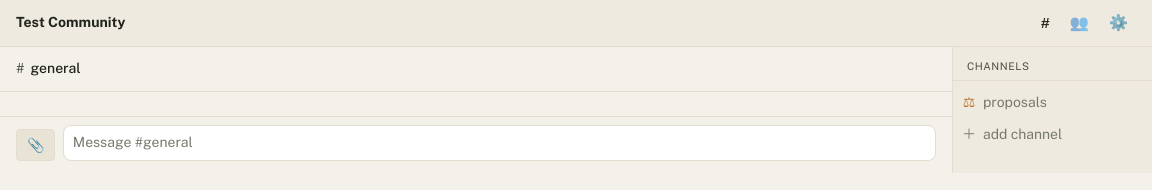
Test: CommunityView › right-panel channels/members toggle (ZEB-965) › 👥 switches the right panel to members; # switches back to channels
The width and height of the screenshot is (1152, 190).
Expected: the element with class "channels-panel" is shown, 952,47 -> 1151,173
Click the button named "Show members panel" at x=1079, y=23, box 1062,10 -> 1097,36
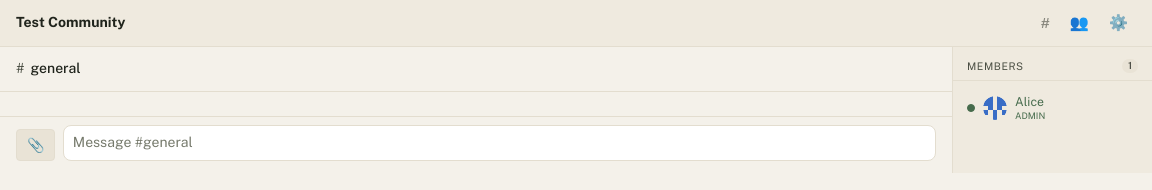
Now the element with class "members-panel" is shown, box 952,47 -> 1151,173
Now the element with class "channels-panel" is gone
Click the button named "Show channels panel" at x=1045, y=23, box 1033,10 -> 1058,36
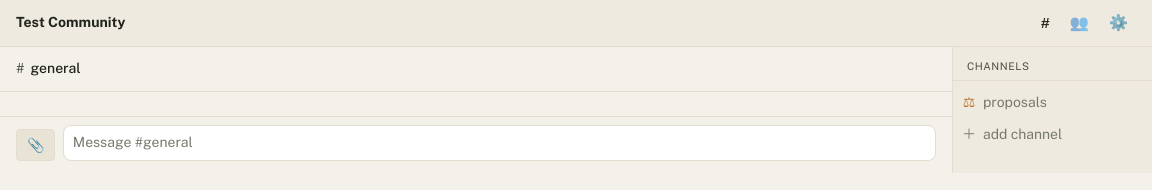
Now the element with class "channels-panel" is shown, box 952,47 -> 1151,173
Now the element with class "members-panel" is gone
